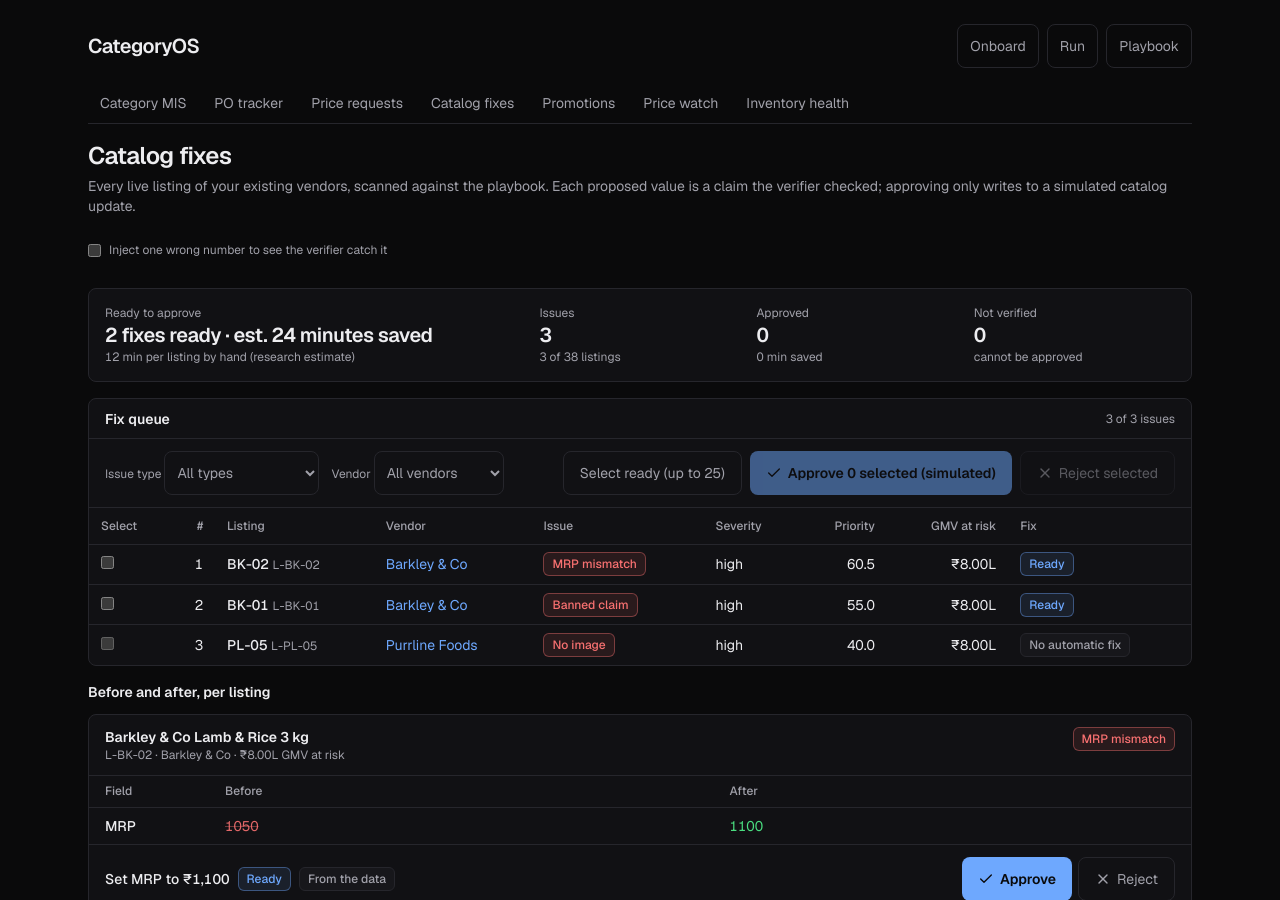
Test: CatalogFixesPage › bulk approves the selected ready fixes through the simulator
The width and height of the screenshot is (1280, 900).
Expected: the text "2 fixes ready · est. 24 minutes saved" is shown, left=105, top=322, right=432, bottom=348
Click the button "Select ready (up to 25)" at (652, 473), box left=563, top=451, right=742, bottom=495
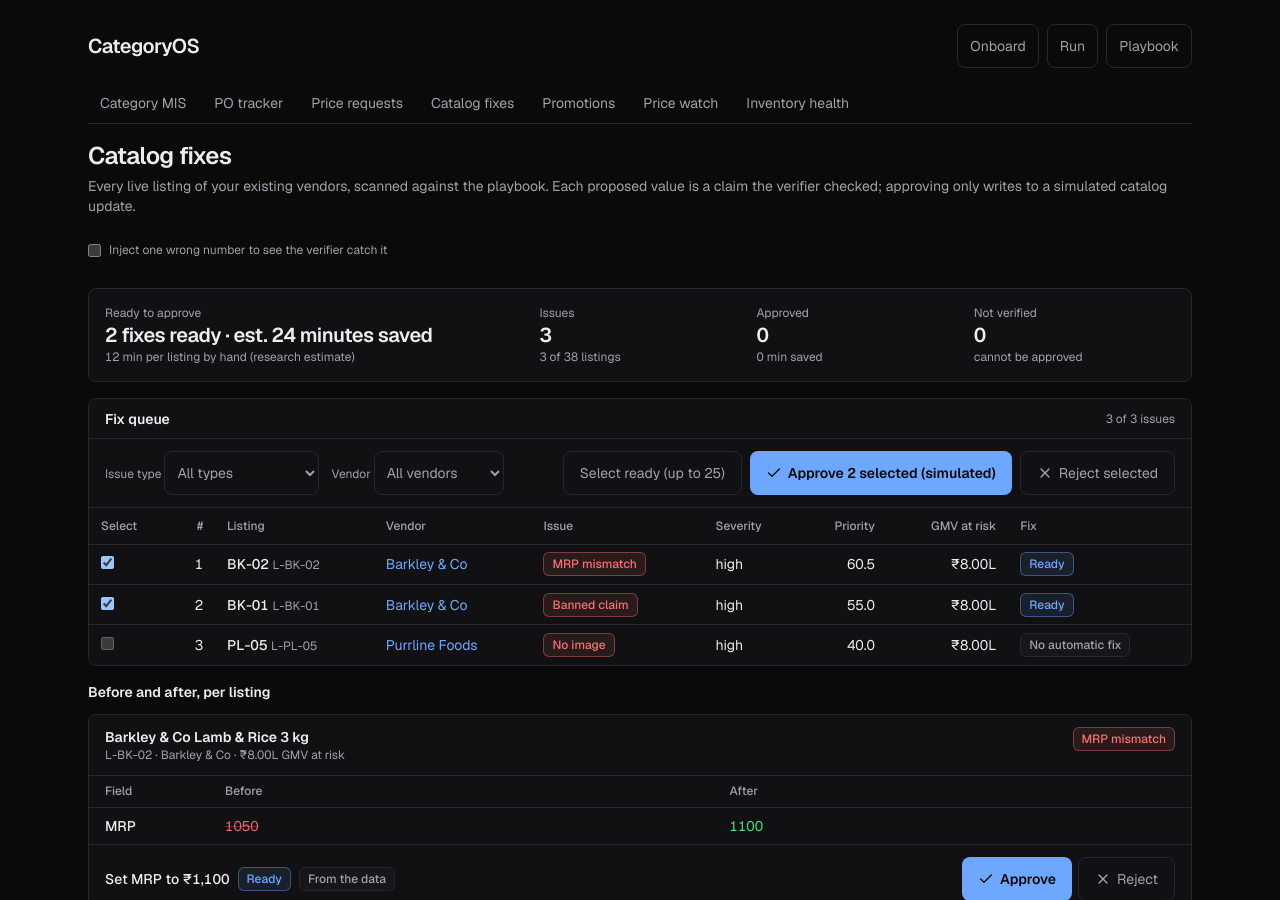
Click the button "Approve 2 selected (simulated)" at (881, 473), box left=750, top=451, right=1012, bottom=495
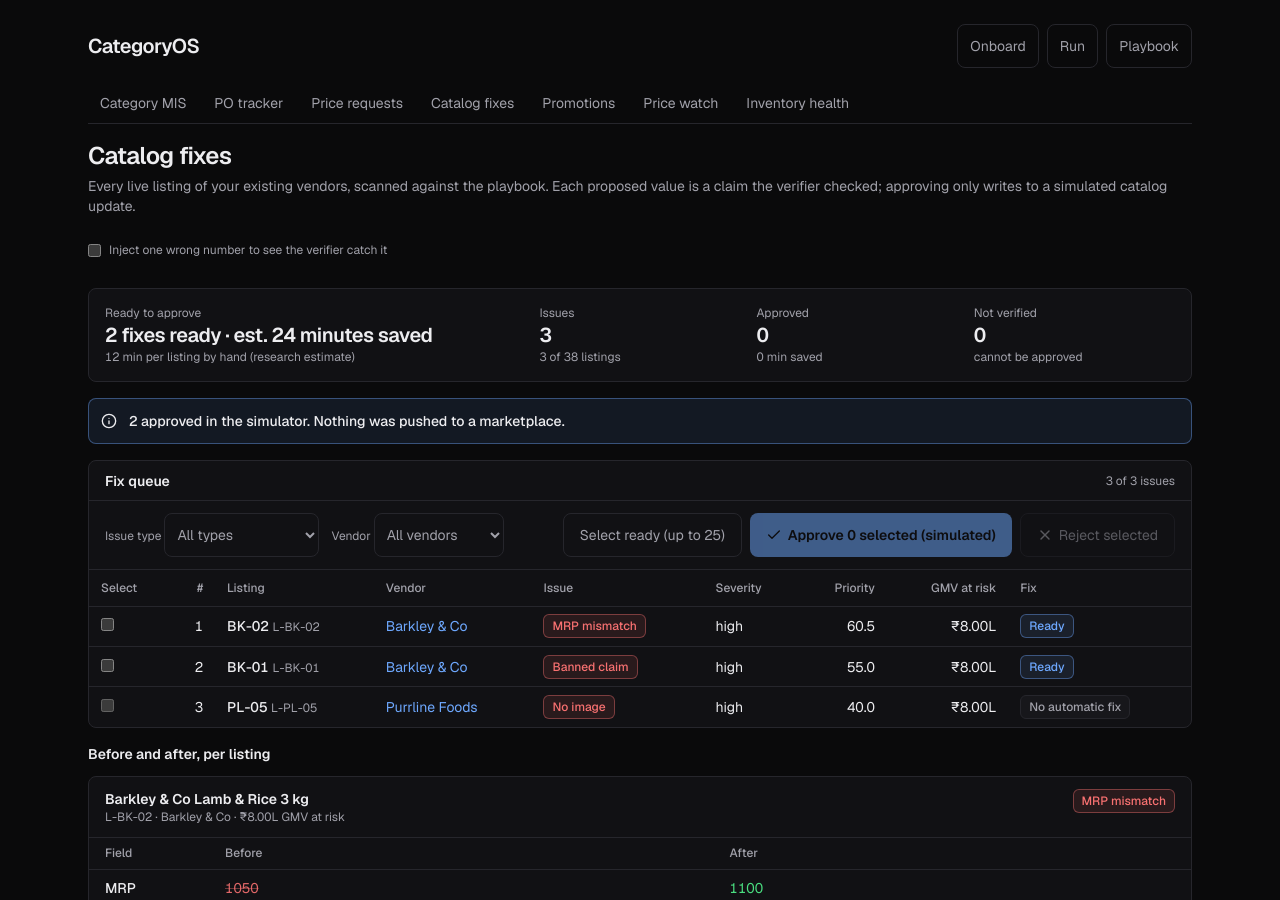
Expected: the text "Nothing was pushed to a marketplace" is shown, left=129, top=412, right=565, bottom=430
